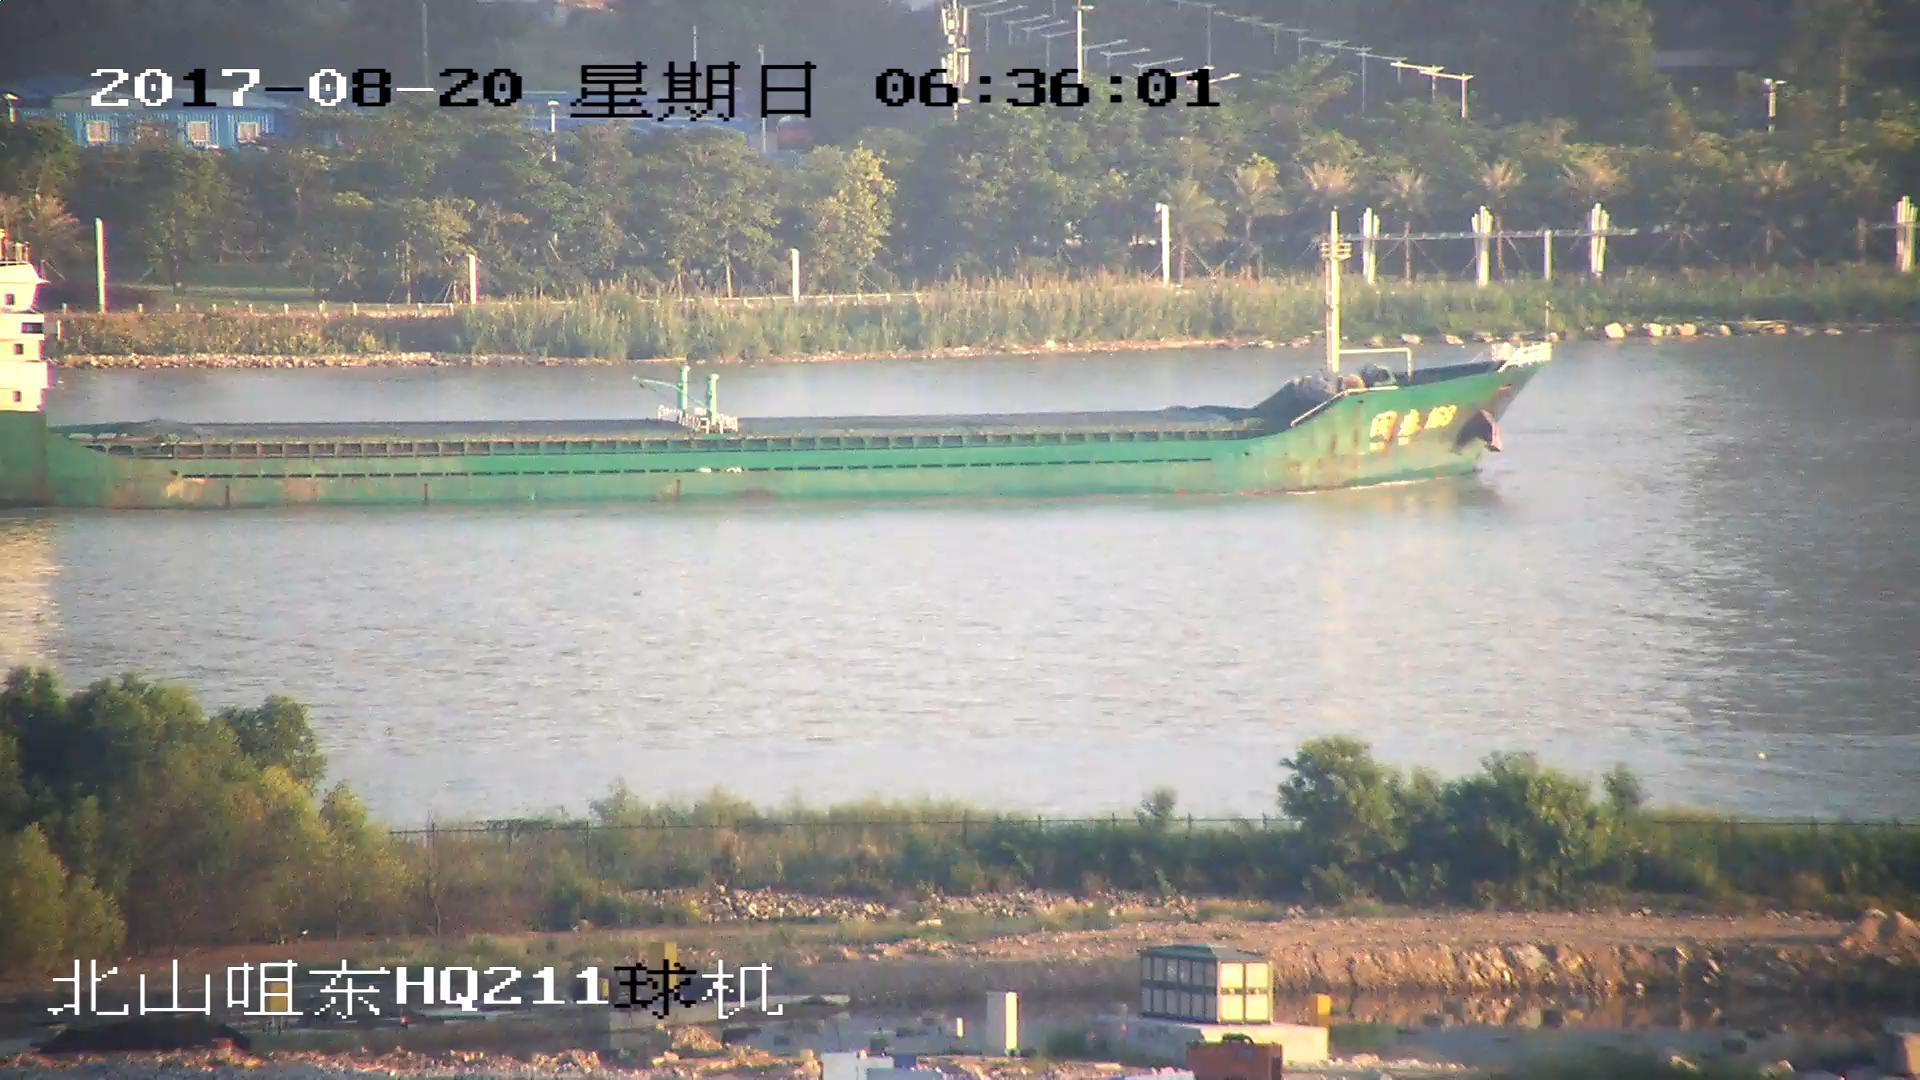Ship: (3, 235, 1545, 517)
